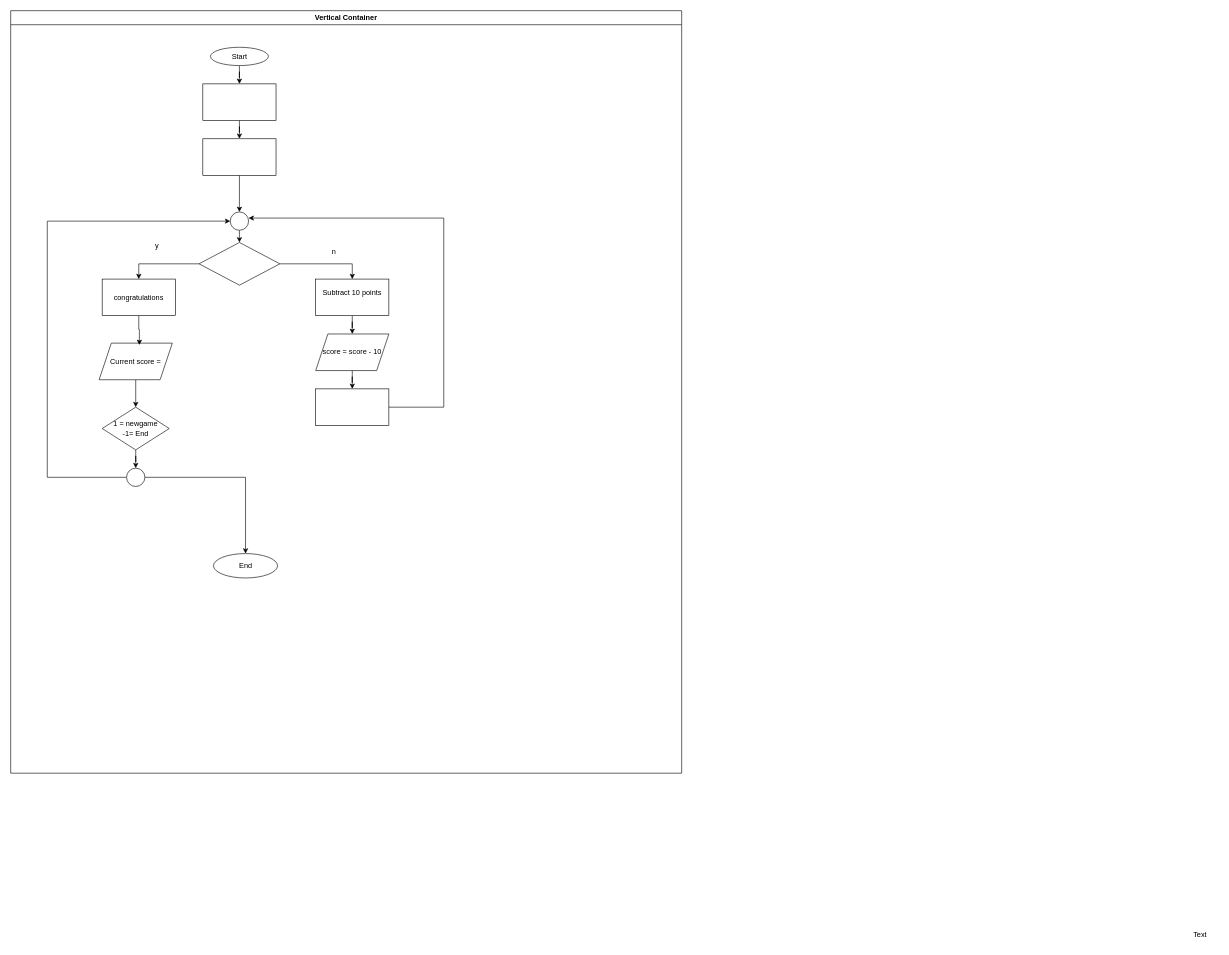
The diagram is 1229 pixels wide and 955 high, and some of its shapes have lost their labels. Each missing label, with the box of its shape:
Generate random number (1 to 100): (202, 138, 276, 175)
Give hint (Higher or Lower): (315, 388, 389, 425)
guess == target?: (198, 242, 280, 285)
score = 100: (202, 83, 276, 120)
